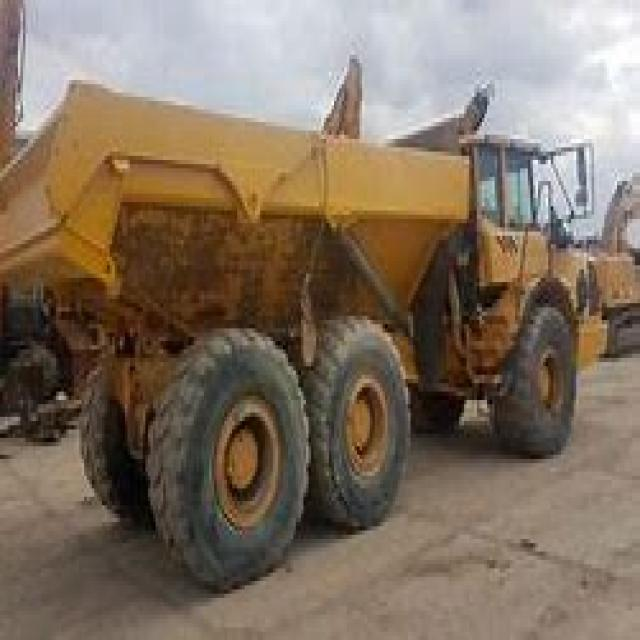dump_truck: (13, 47, 607, 590)
